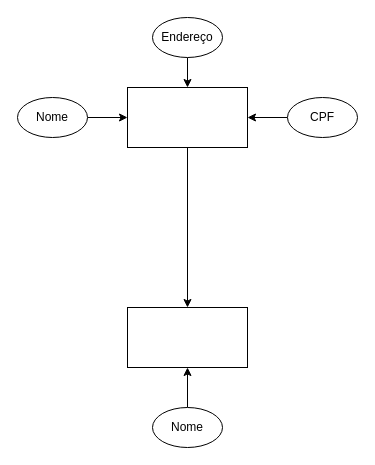
Image size: 375x465. Some labels were removed from this diagram. Here are the shapes that lost their labels. From the top down, the centre of each, then its label:
At (187,117): "Cadastro de Pessoas".
At (187,337): "Agente de saúde".
